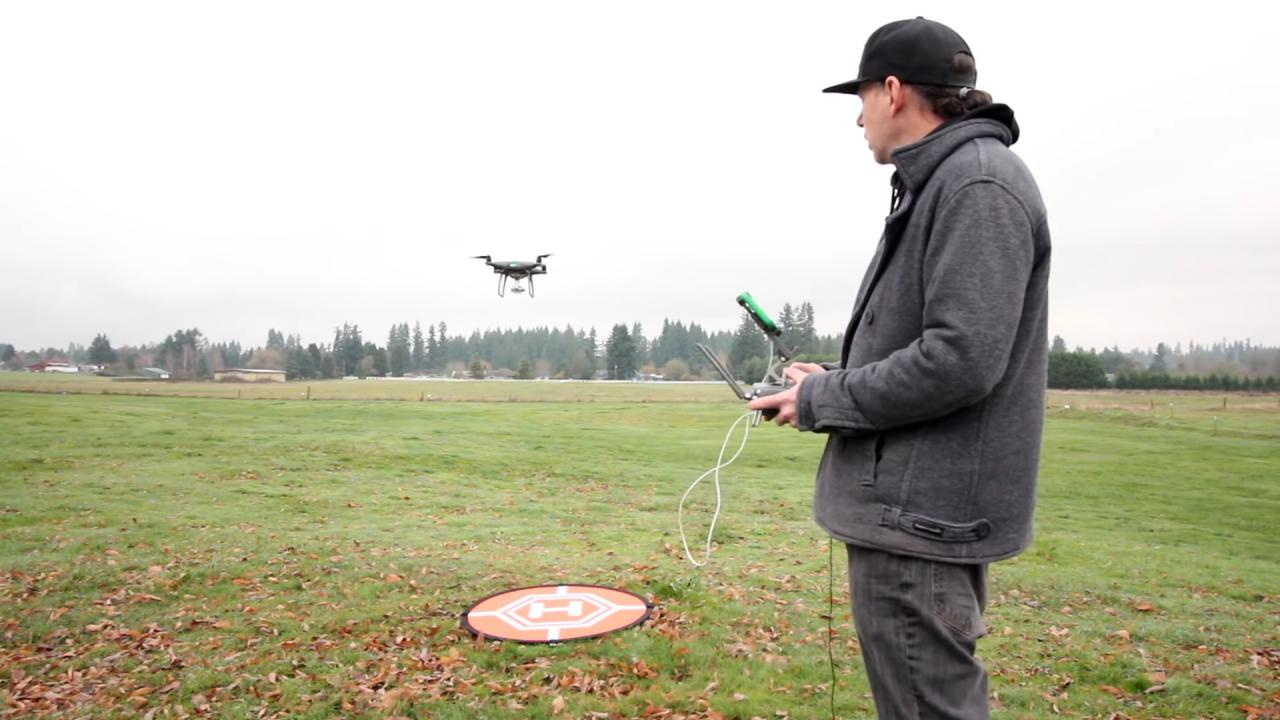Drone: (459, 244, 569, 308)
